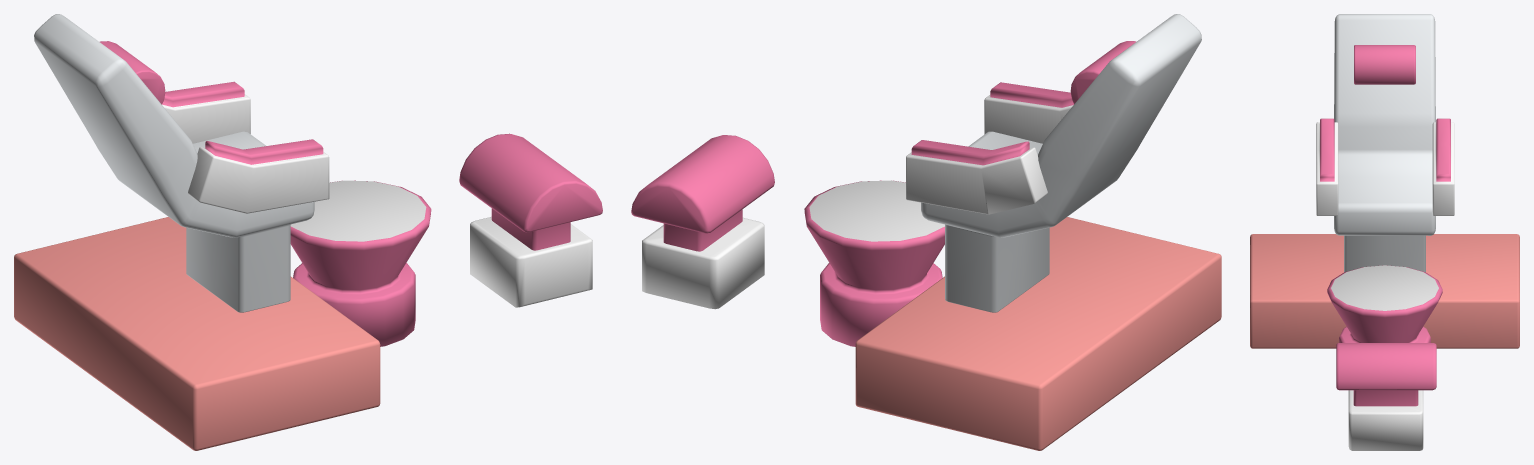
The model's file is Pedİcure_Station.fbx.
The picture shows the model from 3 angles, left to right: view 1: azimuth 30°, elevation 25°; view 2: azimuth 150°, elevation 25°; view 3: azimuth 270°, elevation 25°; orthographic projection. The views are drawn at different scales.
Visible parts, largest first — view 1: Pedicure_Station; view 2: Pedicure_Station; view 3: Pedicure_Station.
Part boxes in pixels (box(x1,y1,x2,y2)): Pedicure_Station: box(14, 14, 602, 450); Pedicure_Station: box(631, 14, 1221, 450); Pedicure_Station: box(1250, 14, 1519, 450).
Size of the model in its own units: 3.21 by 2.14 by 2.
